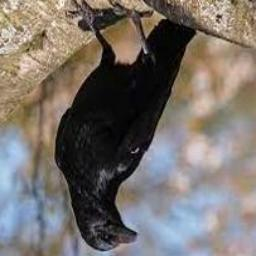Crow: (54, 0, 197, 251)
